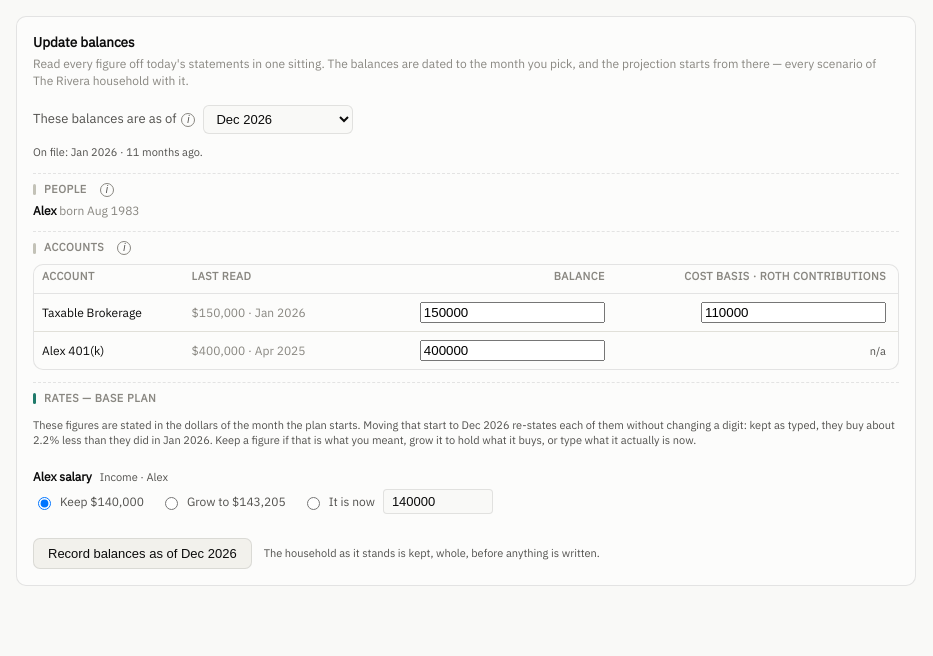
Scenario: RefreshScreen › keeps a refused refresh on this screen, with what was typed intact
The width and height of the screenshot is (933, 656).
Replace the text in the number field named "Taxable Brokerage balance" with "165000": x=512, y=312 420,302 -> 605,323
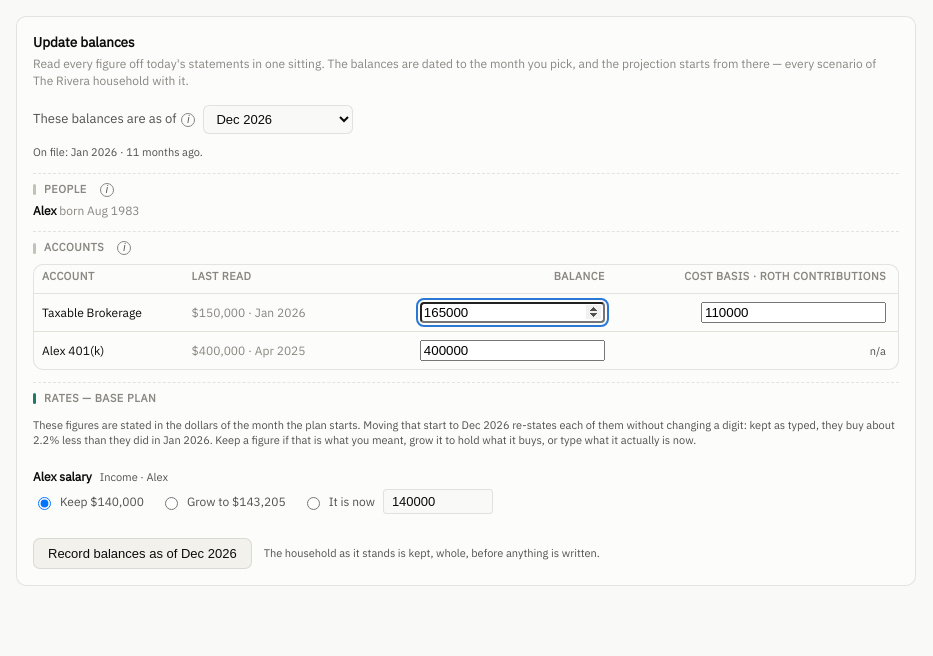
Click the button "Record balances as of Dec 2026": x=142, y=554 33,538 -> 252,569
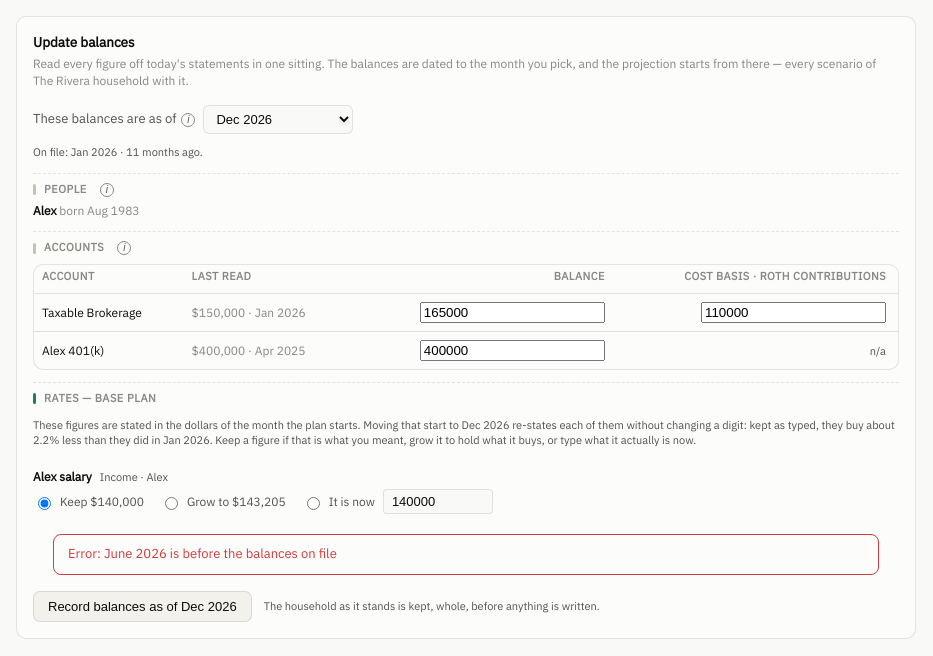
Now the message shows "before the balances on file", box 68,545 -> 337,562
